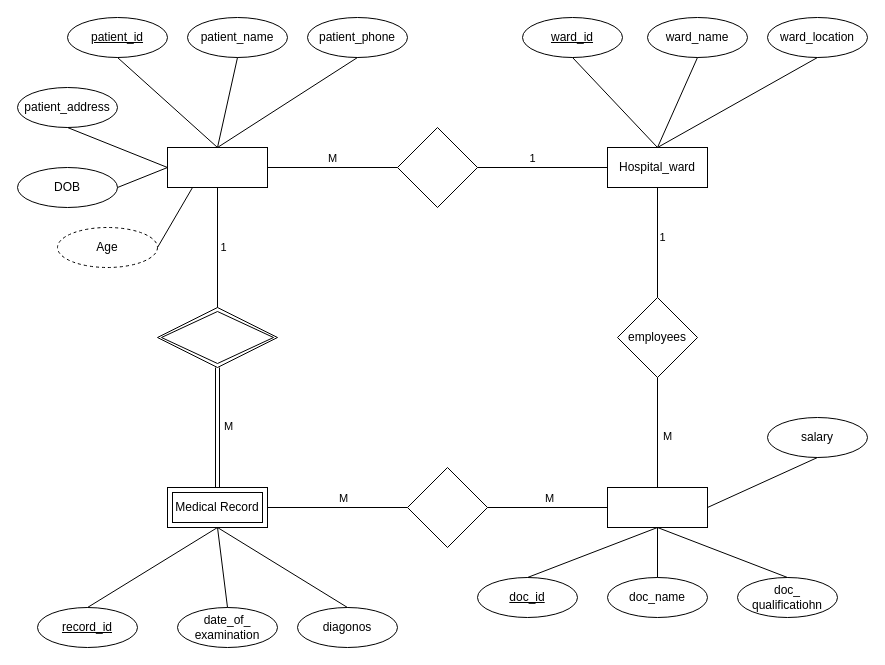
Some shapes in this 885 by 665 pixel diagram are drawn without their labels. Here are the shapes that lost their labels. From the top down, the box of each, then its label:
(166, 146, 268, 188): Patient
(396, 126, 478, 208): Admits
(156, 306, 278, 368): Relationship
(406, 466, 488, 548): Fills
(606, 486, 708, 528): Doctor
